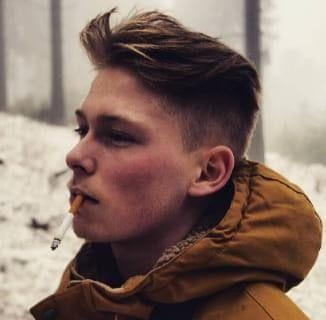cigarette: (49, 195, 86, 252)
